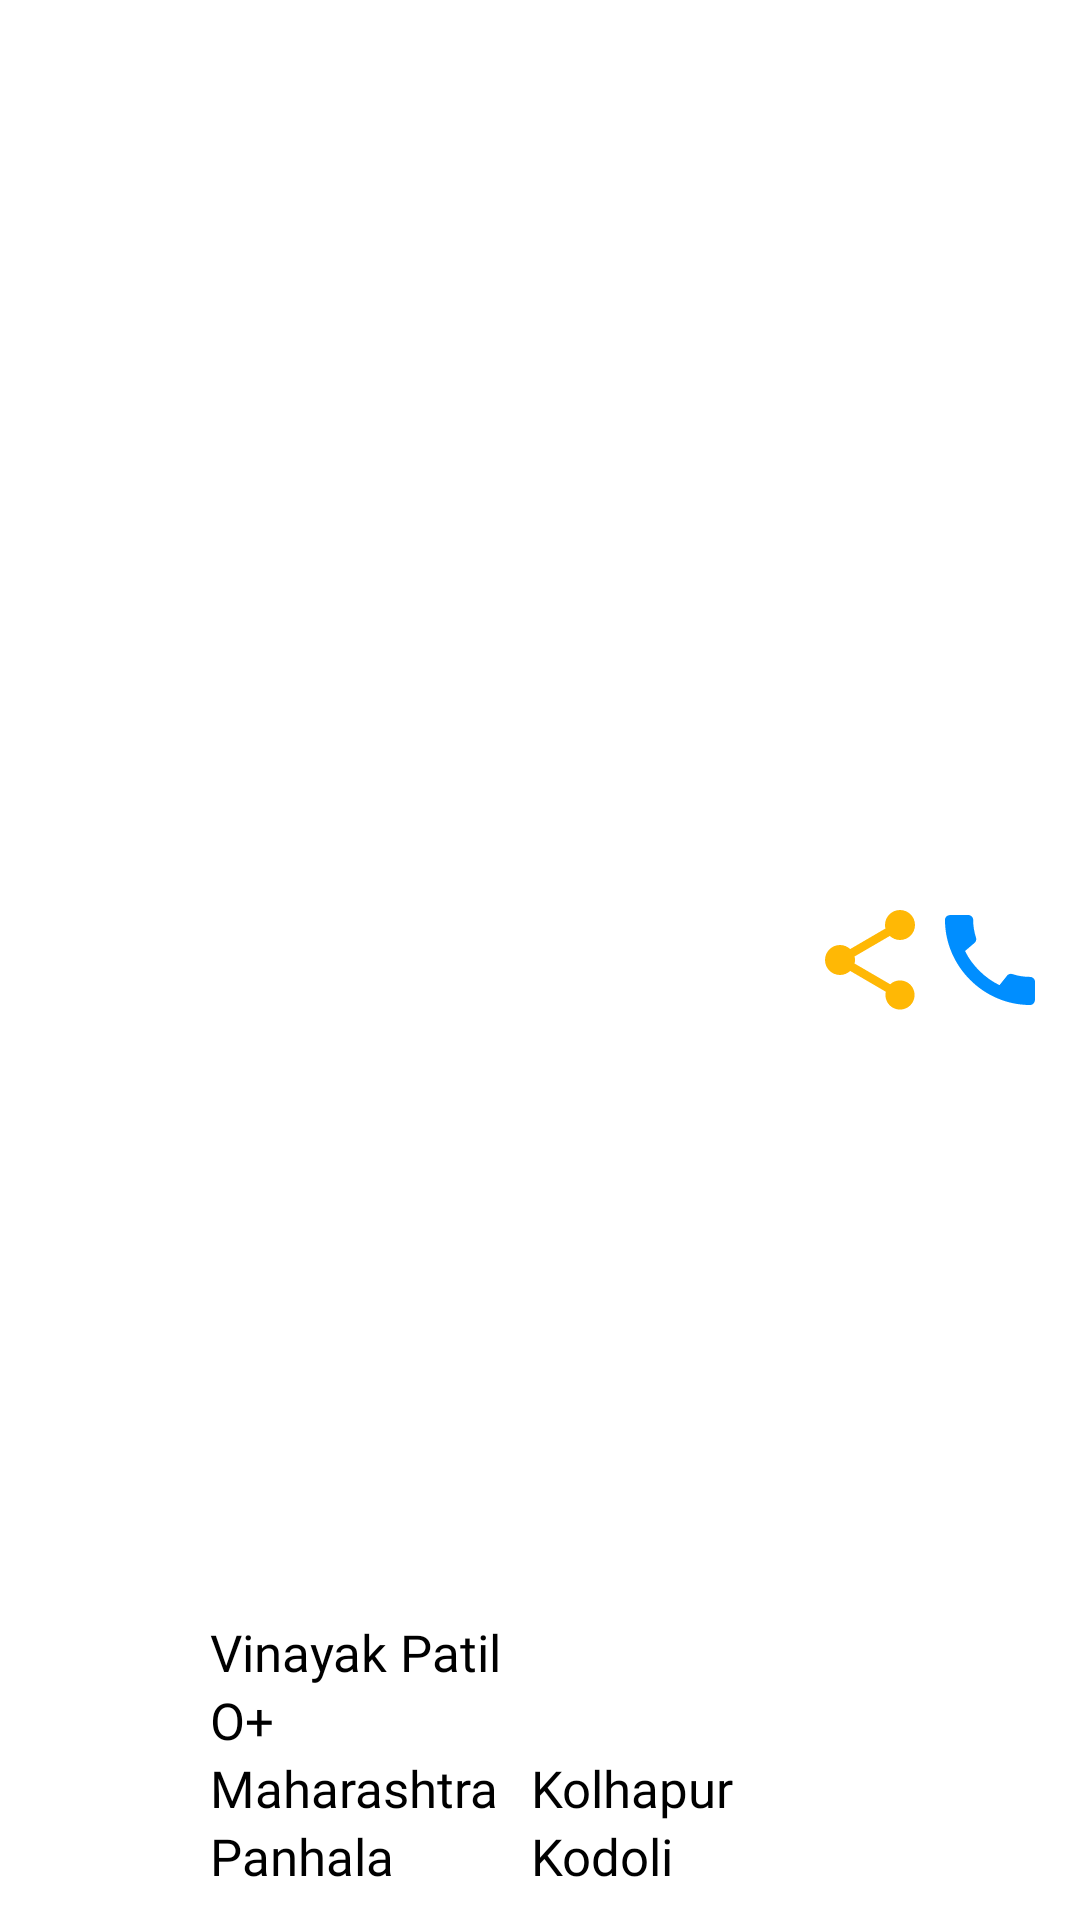

Icon click points for this 1080px×1920px phone screenshot, format point (x, y):
call: point (990, 960)
share: point (870, 960)
